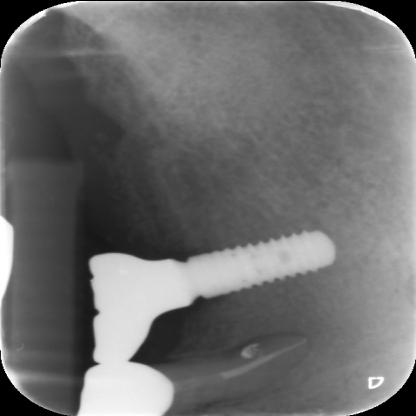ITI: (172, 222, 347, 307)
